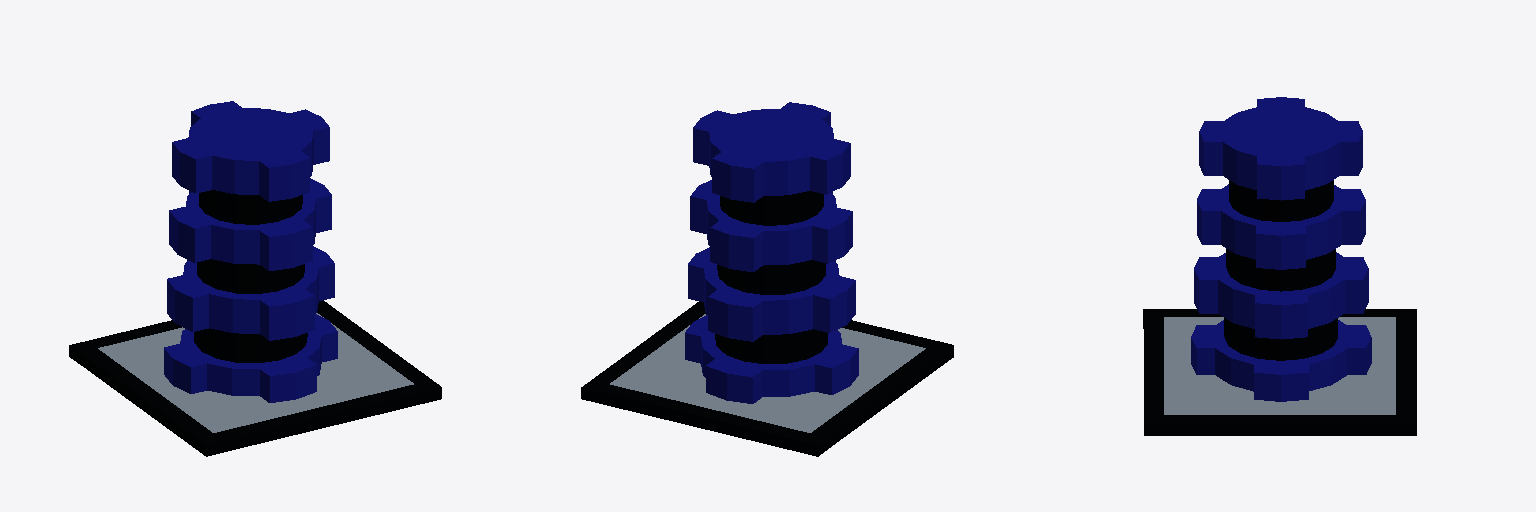
The model's file is slow_down.obj.
3 renders of one model, left to right at view 1: azimuth 30°, elevation 25°; view 2: azimuth 150°, elevation 25°; view 3: azimuth 270°, elevation 25°, orthographic.
Parts seen in each view (by area): view 1: Cube; view 2: Cube; view 3: Cube.
Boxes of the visible parts, box(x1,y1,x2,y2) form: Cube: box(69, 101, 441, 456); Cube: box(581, 102, 953, 456); Cube: box(1143, 97, 1416, 435).
Size of the model in its own units: 0.7243 by 0.7147 by 0.7245.